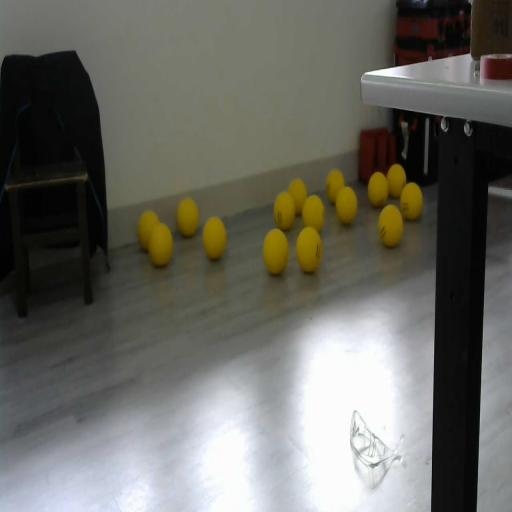FUEL: (262, 226, 290, 277), (296, 224, 322, 274), (377, 202, 403, 248), (201, 215, 227, 260), (334, 185, 358, 225), (176, 197, 200, 237), (138, 210, 160, 251), (302, 194, 324, 234), (400, 182, 423, 220), (287, 177, 308, 217), (367, 170, 389, 208), (386, 162, 407, 199)
